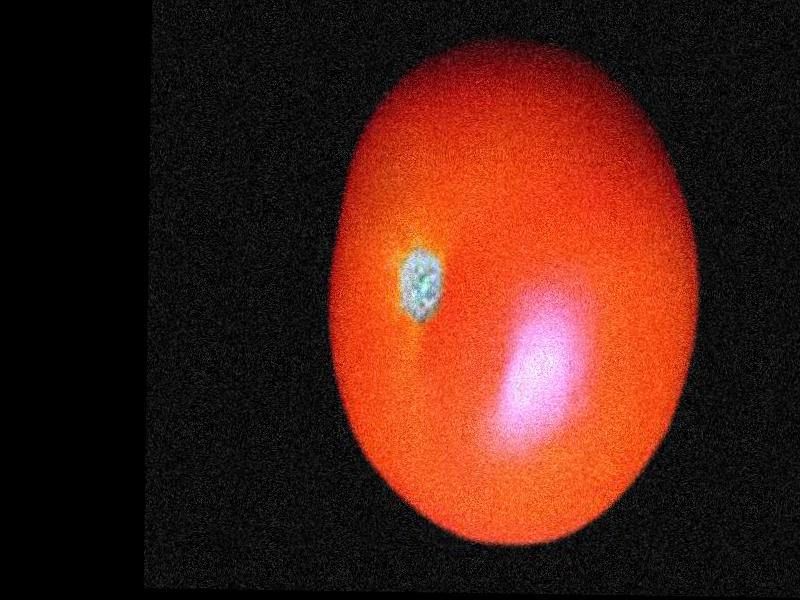Tomato: (326, 36, 701, 549)
